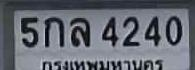0: (165, 15, 181, 45)
2: (122, 16, 138, 46)
4: (101, 16, 117, 46), (144, 15, 159, 45)
5: (20, 16, 37, 47)
A01: (44, 16, 63, 46)
A36: (69, 17, 89, 46)
